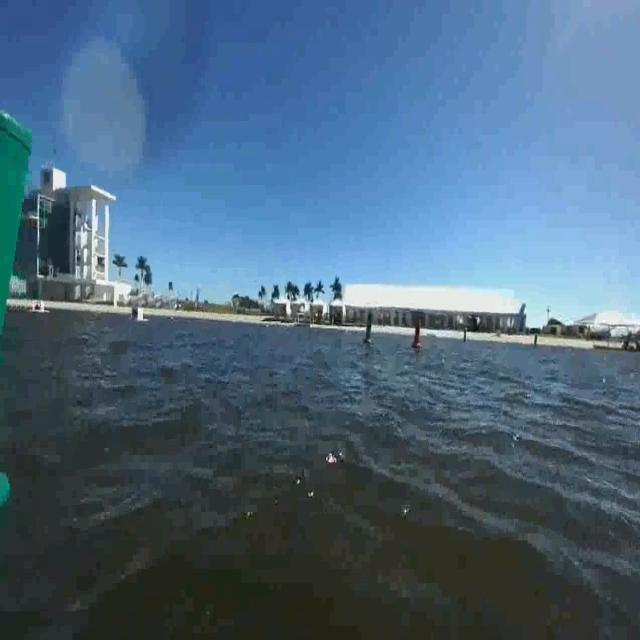green-column-buoy: (0, 92, 27, 526), (362, 310, 373, 344)
red-column-buoy: (413, 317, 425, 349)
